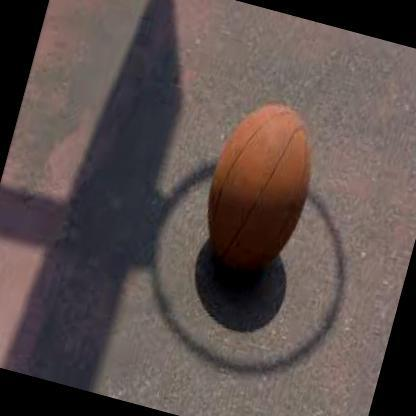basketball: (190, 90, 328, 289)
